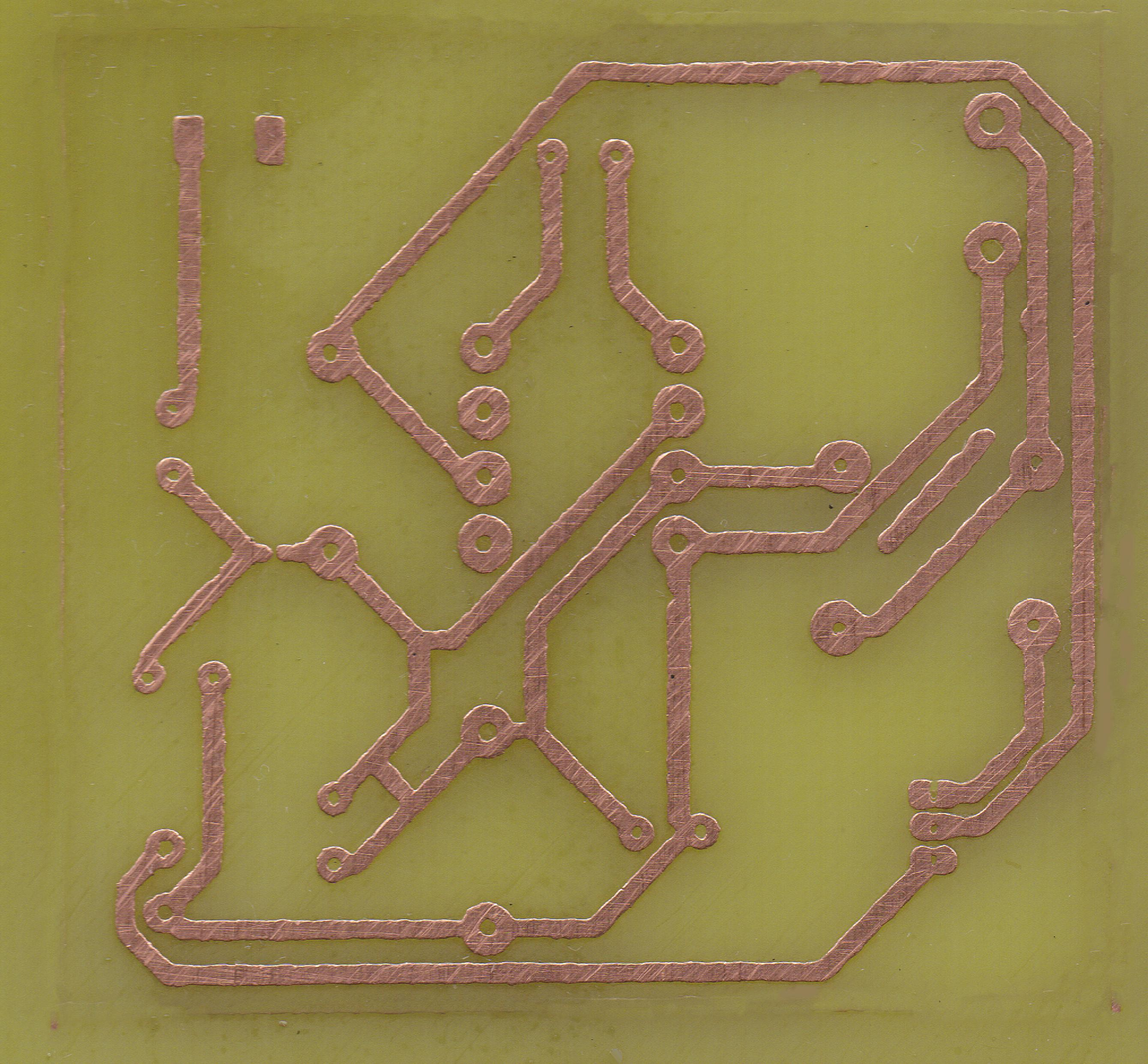missing_hole: (908, 778, 963, 811)
mouse_bite: (771, 60, 834, 92)
open_circuit: (251, 545, 296, 565)
short: (361, 753, 430, 816)
spur: (1016, 303, 1052, 337)
spurious_copper: (872, 428, 991, 559)
